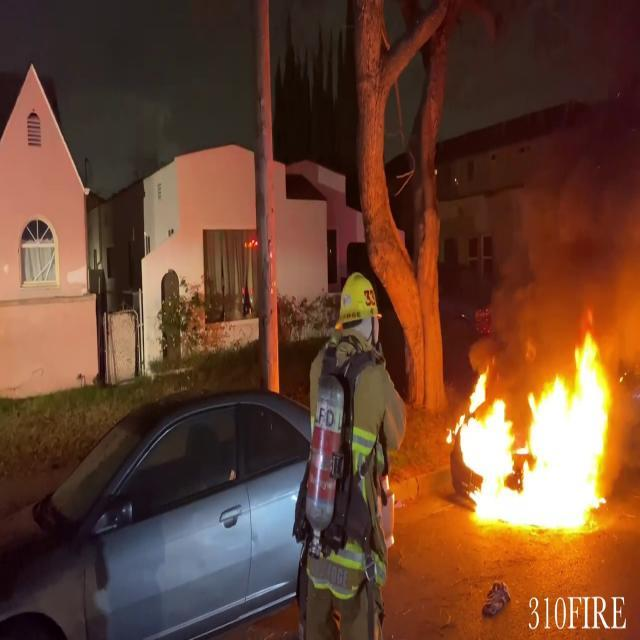Fire: (448, 328, 621, 538)
Smoke: (523, 4, 640, 378)
